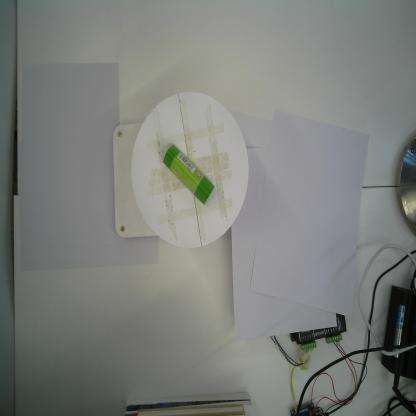Stationery: (161, 142, 216, 207)
